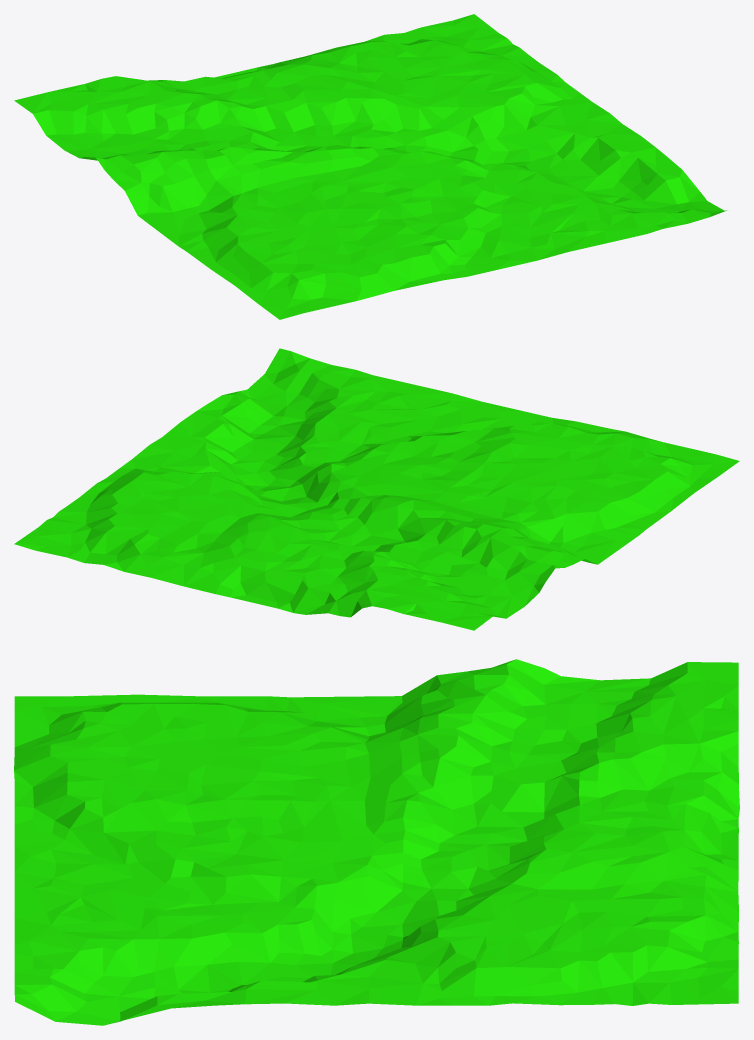
The model's file is test_map.glb.
3 renders of one model, top to bottom at view 1: azimuth 30°, elevation 25°; view 2: azimuth 150°, elevation 25°; view 3: azimuth 270°, elevation 25°, orthographic. The views are drawn at different scales.
Visible parts, largest first — view 1: Plane; view 2: Plane; view 3: Plane.
Part boxes in pixels (x1=…): Plane: x1=14, y1=14, x2=726, y2=319; Plane: x1=14, y1=348, x2=739, y2=630; Plane: x1=14, y1=659, x2=739, y2=1025.
Bounding box in the file's own units: 20.01 × 1.98 × 20.05.
